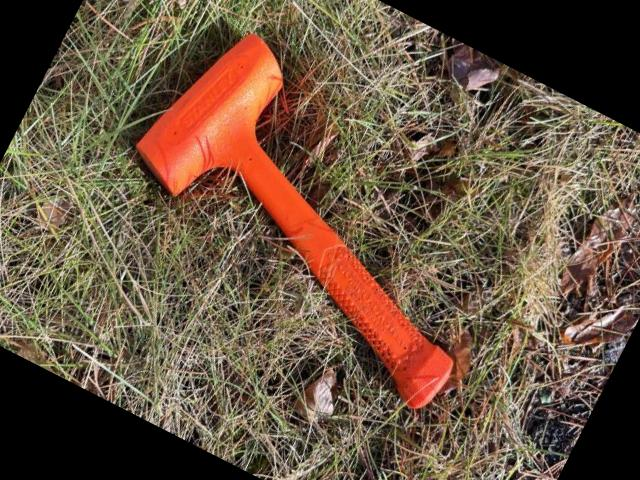hammer: (86, 8, 550, 416)
